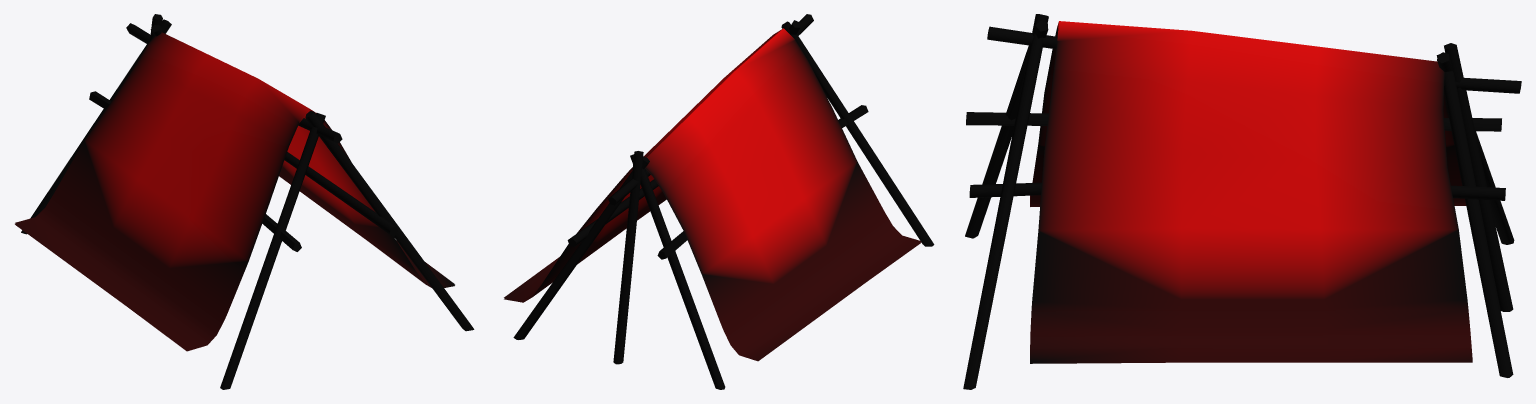
Rendered from GeoTent01.fbx.
The picture shows the model from 3 angles, left to right: view 1: azimuth 30°, elevation 25°; view 2: azimuth 150°, elevation 25°; view 3: azimuth 270°, elevation 25°; orthographic projection. The views are drawn at different scales.
Visible parts, largest first — view 1: GeoTent01_LOD0; view 2: GeoTent01_LOD0; view 3: GeoTent01_LOD0.
Boxes of the visible parts, <box> form: GeoTent01_LOD0: <box>15,14,474,389</box>; GeoTent01_LOD0: <box>504,14,934,389</box>; GeoTent01_LOD0: <box>963,14,1521,389</box>.
Size of what is drawn, in the model's own units: 202 by 164 by 284.
